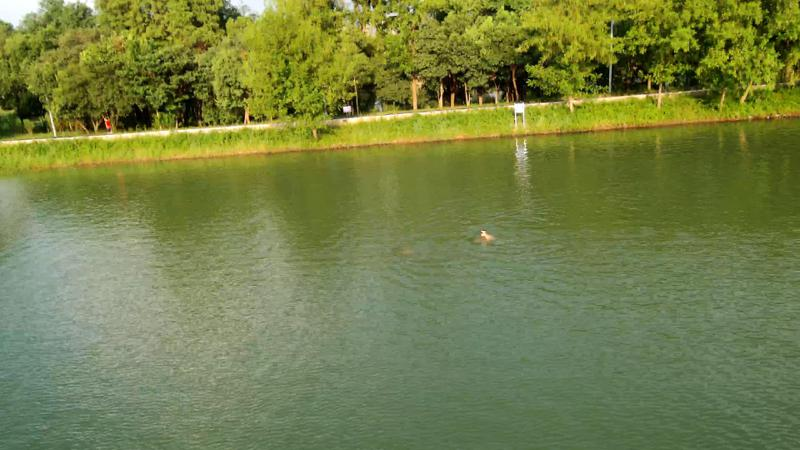passerby: (102, 116, 113, 136)
swimmers: (477, 227, 497, 245)
